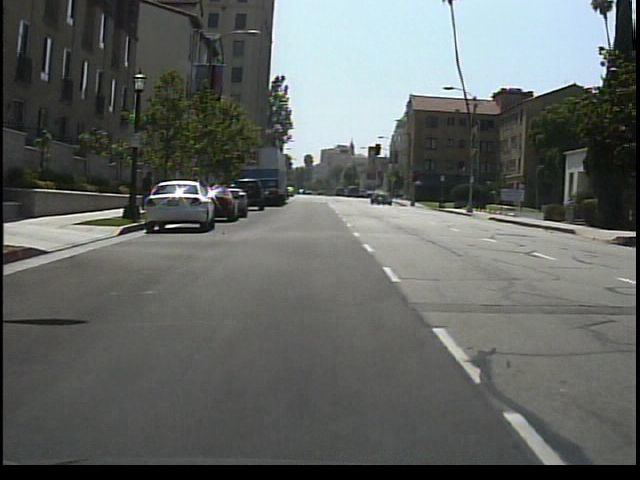person: (142, 168, 160, 216)
